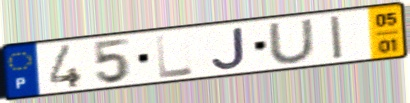4: (46, 43, 85, 90)
5: (90, 36, 135, 86)
I: (327, 13, 346, 62)
J: (209, 25, 247, 72)
L: (153, 31, 197, 80)
U: (265, 17, 318, 65)
